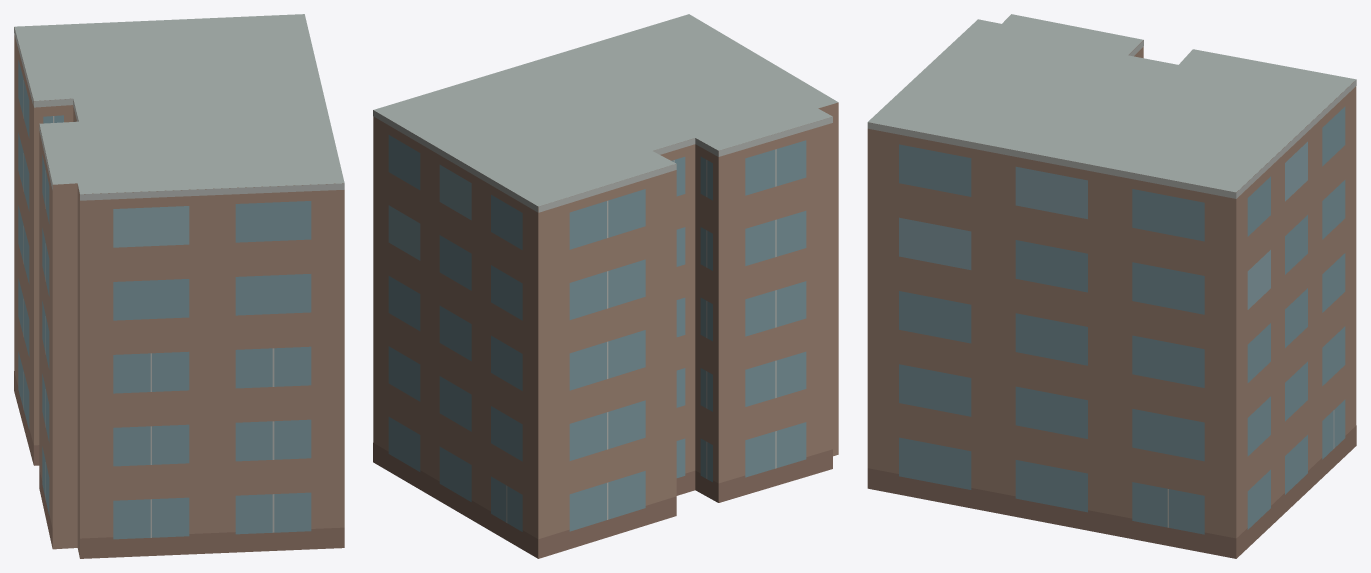
Rendered from survey-upis-32678942.glb.
3 views of the same model, side by side, from view 1: azimuth 30°, elevation 25°; view 2: azimuth 150°, elevation 25°; view 3: azimuth 270°, elevation 25° (orthographic). The views are drawn at different scales.
Visible parts, largest first — view 1: survey-upis-32678942.tmp; view 2: survey-upis-32678942.tmp; view 3: survey-upis-32678942.tmp.
Boxes of the visible parts, x1,y1,x2,y2 form: survey-upis-32678942.tmp: [14, 14, 344, 558]; survey-upis-32678942.tmp: [373, 14, 838, 558]; survey-upis-32678942.tmp: [867, 14, 1356, 558].
Bounding box in the file's own units: 14.37 × 13.75 × 16.64.
